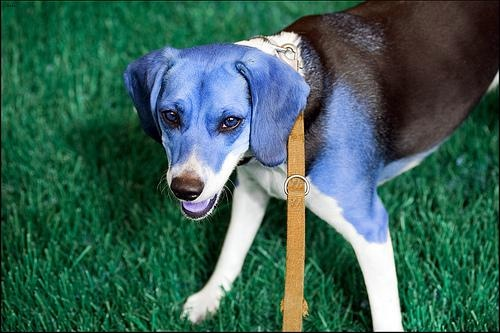dog-beagle: (124, 47, 310, 220)
